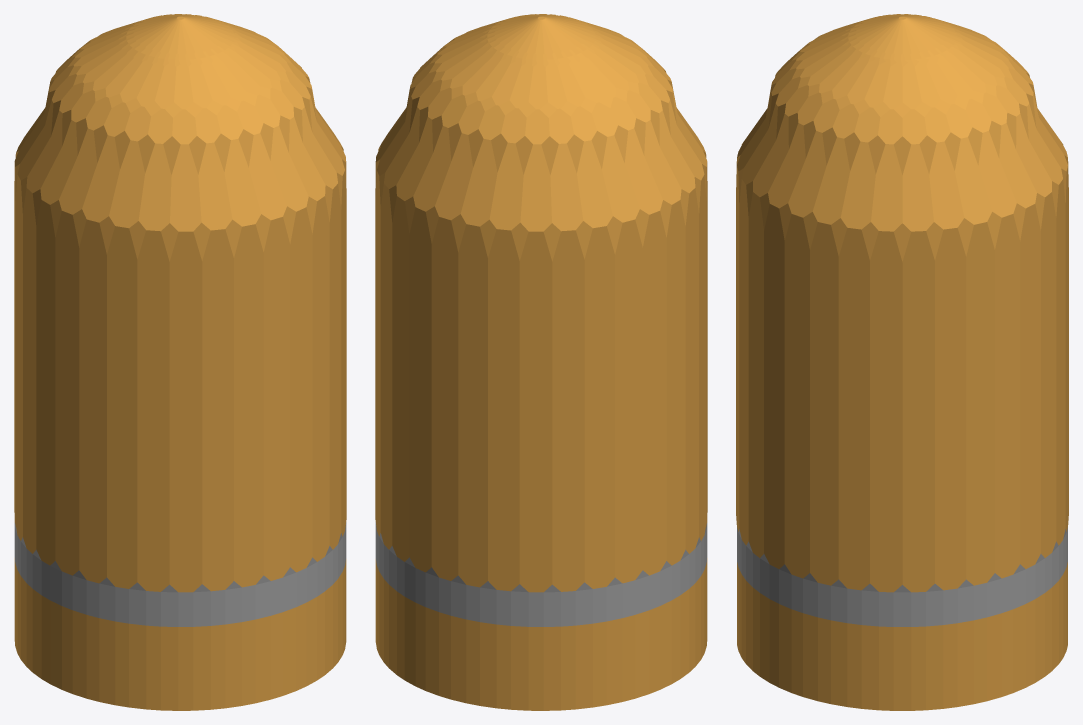
File: Bullete.fbx
3 renders of one model, left to right at view 1: azimuth 30°, elevation 25°; view 2: azimuth 150°, elevation 25°; view 3: azimuth 270°, elevation 25°, orthographic.
Visible parts, largest first — view 1: Cylinder; view 2: Cylinder; view 3: Cylinder.
Part boxes in pixels (x1,y1,x2,y2): Cylinder: (14,14,346,710); Cylinder: (375,14,707,710); Cylinder: (736,14,1068,710).
Size of the model in its own units: 200 by 413 by 200.
